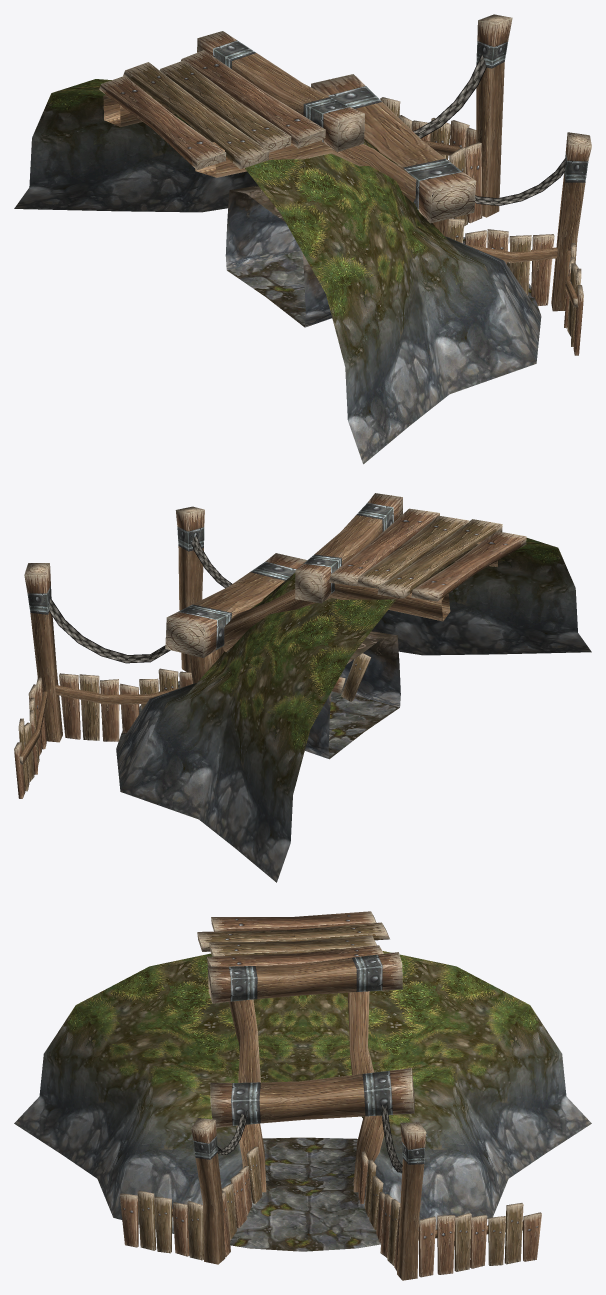
File: entrance1.dae
The picture shows the model from 3 angles, top to bottom: view 1: azimuth 30°, elevation 25°; view 2: azimuth 150°, elevation 25°; view 3: azimuth 270°, elevation 25°; orthographic projection. The views are drawn at different scales.
Visible parts, largest first — view 1: enterance5, enterance0, enterance2, enterance3, enterance1; view 2: enterance5, enterance0, enterance2, enterance3, enterance1; view 3: enterance5, enterance0, enterance2, enterance1.
Boxes of the visible parts, x1,y1,x2,y2 form: enterance5: (99,14,591,355); enterance0: (14,93,541,464); enterance2: (52,79,424,293); enterance3: (225,190,331,327); enterance1: (227,237,540,327); enterance5: (14,493,526,798); enterance0: (116,547,591,882); enterance2: (220,538,557,728); enterance3: (305,635,400,758); enterance1: (116,681,399,758); enterance5: (119,911,541,1280); enterance0: (14,1005,591,1233); enterance2: (76,951,529,1117); enterance1: (229,1137,380,1251).
Bounding box in the file's own units: 43.85 × 61.09 × 24.04.
